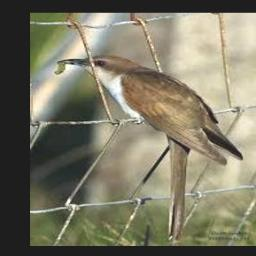Cuckoo: (57, 55, 243, 239)
